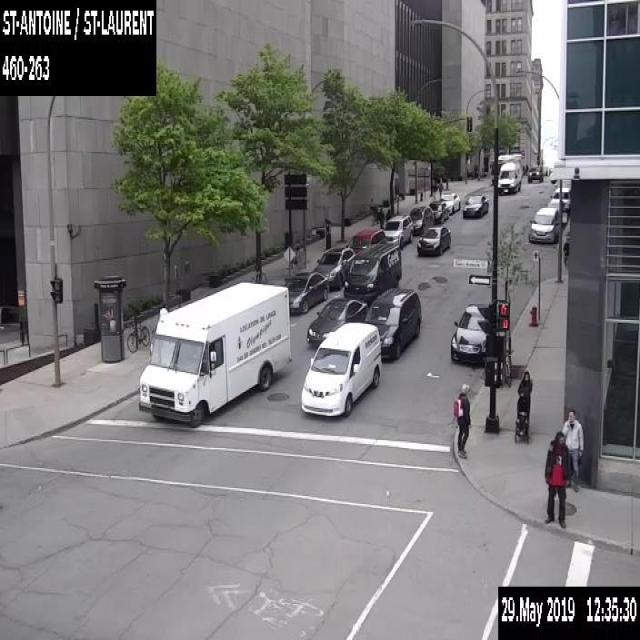bus: (489, 152, 521, 184)
pedestrian: (544, 429, 572, 526), (561, 407, 583, 492), (514, 369, 532, 440), (452, 383, 469, 456), (562, 239, 568, 266), (377, 206, 384, 228), (431, 180, 437, 199), (385, 208, 391, 221), (438, 181, 442, 196)
vehicle: (138, 280, 290, 426), (301, 320, 380, 418), (366, 286, 421, 359), (343, 242, 401, 304), (449, 300, 499, 364), (306, 296, 368, 344), (312, 245, 355, 289), (284, 270, 328, 312), (345, 228, 385, 258), (528, 206, 558, 242), (416, 224, 450, 254), (383, 213, 413, 247), (496, 161, 523, 192), (409, 205, 434, 233), (462, 192, 487, 217), (548, 186, 570, 210), (439, 191, 460, 214), (428, 200, 449, 222), (527, 165, 543, 181)
